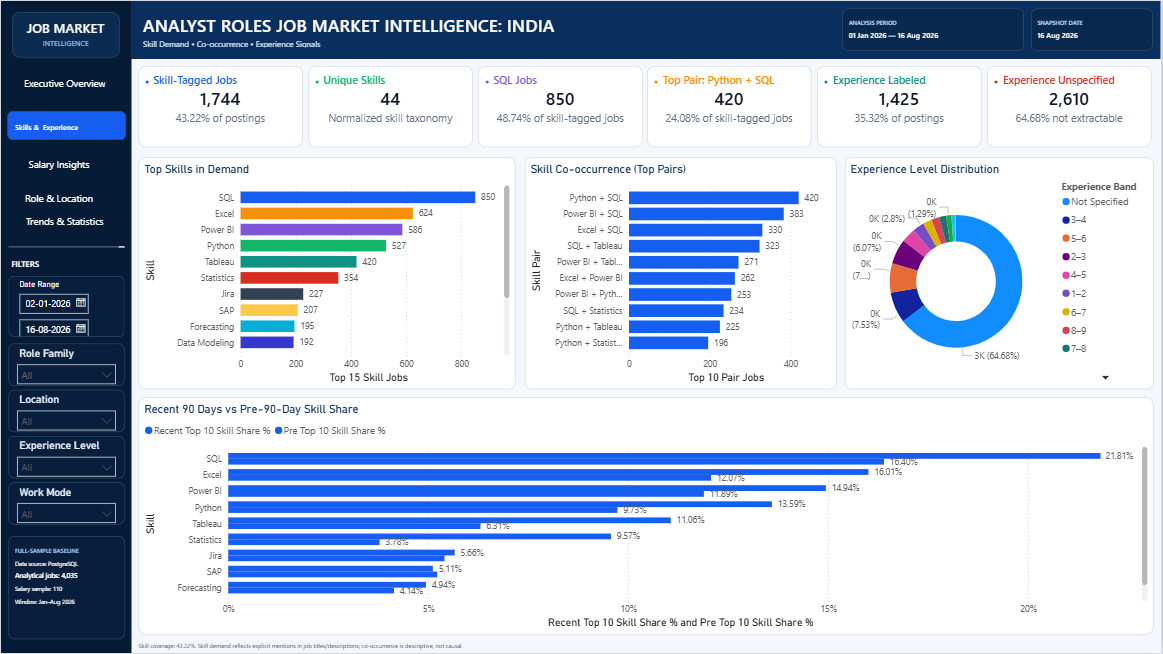

The dashboard page shown, as its layout file describes it:
{"tool":"powerbi","page":{"name":"Skills & Experience","canvas":[1600,900],"ordinal":1},"visuals":[{"type":"textbox","box":[0,0,180,900],"z":0},{"type":"textbox","box":[16,16,148,62],"z":1000},{"type":"textbox","box":[8,151,164,40],"z":2000},{"type":"textbox","box":[10,338,160,2],"z":3000},{"type":"textbox","box":[10,348,160,28],"z":4000},{"type":"slicer","fields":{"Values":["Jobs.Posted Date"]},"box":[10,380,160,84],"z":5000},{"type":"slicer","fields":{"Values":["Jobs.Role Family"]},"box":[10,472,160,58],"z":6000},{"type":"slicer","fields":{"Values":["Jobs.Specific City"]},"box":[10,536,160,58],"z":7000},{"type":"slicer","fields":{"Values":["Jobs.Experience Band"]},"box":[10,600,160,58],"z":8000},{"type":"slicer","fields":{"Values":["Jobs.Work Mode"]},"box":[10,664,160,58],"z":9000},{"type":"textbox","box":[10,738,160,142],"z":10000},{"type":"textbox","box":[180,0,1420,80],"z":11000},{"type":"textbox","box":[1160,10,250,58],"z":12000},{"type":"textbox","box":[1420,10,168,58],"z":13000},{"type":"textbox","box":[190,90,226,112],"z":14000},{"type":"textbox","box":[424,90,226,112],"z":15000},{"type":"textbox","box":[658,90,226,112],"z":16000},{"type":"textbox","box":[892,90,226,112],"z":17000},{"type":"textbox","box":[1126,90,226,112],"z":18000},{"type":"textbox","box":[1360,90,226,112],"z":19000},{"type":"barChart","title":"Top Skills in Demand","fields":{"Category":["Skills.Skill"],"Y":["Skills.Top 15 Skill Jobs"]},"box":[190,215,520,320],"z":20000},{"type":"barChart","title":"Skill Co-occurrence (Top Pairs)","fields":{"Category":["SkillPairs.Skill Pair"],"Y":["SkillPairs.Top 10 Pair Jobs"]},"box":[722,215,430,320],"z":21000},{"type":"donutChart","title":"Experience Level Distribution","fields":{"Category":["Jobs.Experience Band"],"Y":["Jobs.Analytical Vacancies"]},"box":[1164,215,426,320],"z":22000},{"type":"clusteredBarChart","title":"Recent 90 Days vs Pre-90-Day Skill Share","fields":{"Category":["Skills.Skill"],"Y":["Skills.Recent Top 10 Skill Share %","Skills.Pre Top 10 Skill Share %"]},"box":[190,547,1400,327],"z":23000},{"type":"textbox","box":[190,878,1400,18],"z":24000},{"type":"actionButton","box":[0,96,176,32],"z":25000},{"type":"actionButton","box":[0,208,160,32],"z":26000},{"type":"actionButton","box":[0,256,160,32],"z":27000},{"type":"actionButton","box":[0,288,176,32],"z":28000}]}

Visuals, with their boxes on the page's 1600x900 design canvas (x1, y1, x2, y2). These are canvas units, not pixel positions in the 1163x654 screenshot, which may show the page scaled, cropped or inside an application window:
textbox: bbox=(0, 0, 180, 900)
textbox: bbox=(16, 16, 164, 78)
textbox: bbox=(8, 151, 172, 191)
textbox: bbox=(10, 338, 170, 340)
textbox: bbox=(10, 348, 170, 376)
slicer - Jobs.Posted Date: bbox=(10, 380, 170, 464)
slicer - Jobs.Role Family: bbox=(10, 472, 170, 530)
slicer - Jobs.Specific City: bbox=(10, 536, 170, 594)
slicer - Jobs.Experience Band: bbox=(10, 600, 170, 658)
slicer - Jobs.Work Mode: bbox=(10, 664, 170, 722)
textbox: bbox=(10, 738, 170, 880)
textbox: bbox=(180, 0, 1600, 80)
textbox: bbox=(1160, 10, 1410, 68)
textbox: bbox=(1420, 10, 1588, 68)
textbox: bbox=(190, 90, 416, 202)
textbox: bbox=(424, 90, 650, 202)
textbox: bbox=(658, 90, 884, 202)
textbox: bbox=(892, 90, 1118, 202)
textbox: bbox=(1126, 90, 1352, 202)
textbox: bbox=(1360, 90, 1586, 202)
"Top Skills in Demand" barChart: bbox=(190, 215, 710, 535)
"Skill Co-occurrence (Top Pairs)" barChart: bbox=(722, 215, 1152, 535)
"Experience Level Distribution" donutChart: bbox=(1164, 215, 1590, 535)
"Recent 90 Days vs Pre-90-Day Skill Share" clusteredBarChart: bbox=(190, 547, 1590, 874)
textbox: bbox=(190, 878, 1590, 896)
actionButton: bbox=(0, 96, 176, 128)
actionButton: bbox=(0, 208, 160, 240)
actionButton: bbox=(0, 256, 160, 288)
actionButton: bbox=(0, 288, 176, 320)
